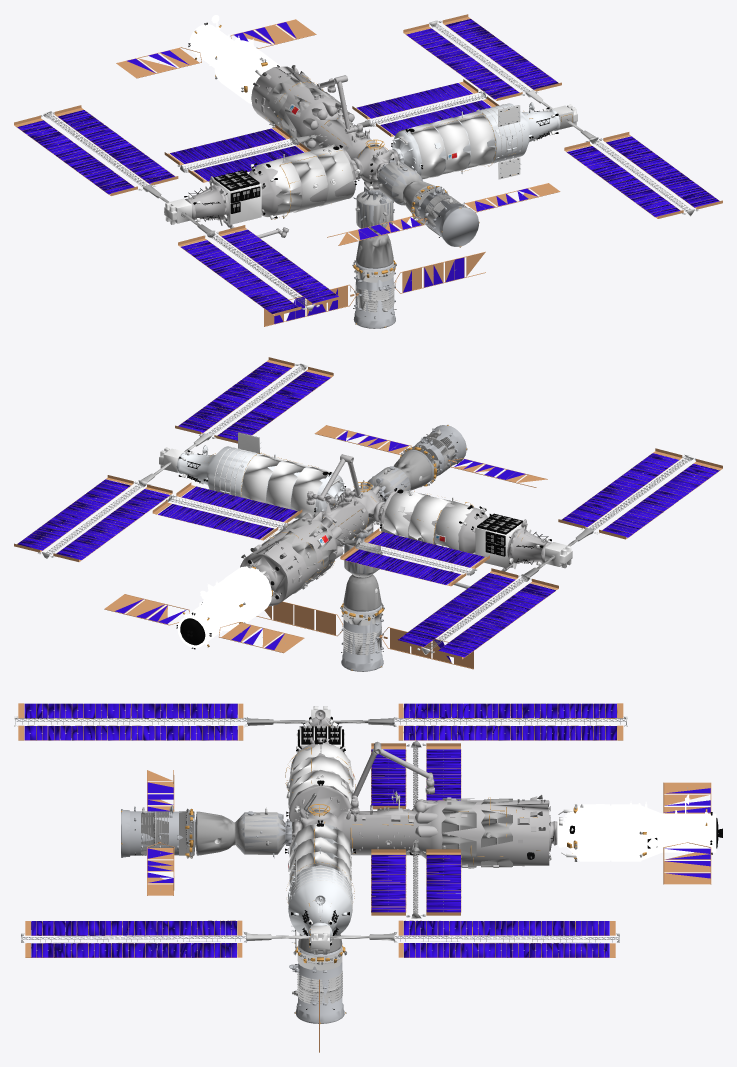
The model's file is tiangong.glb.
The picture shows the model from 3 angles, top to bottom: view 1: azimuth 30°, elevation 25°; view 2: azimuth 150°, elevation 25°; view 3: azimuth 270°, elevation 25°; orthographic projection. The views are drawn at different scales.
Parts seen in each view (by area): view 1: Plane.065_127, Plane.063_125, Circle.010_421, Plane.051_9, Plane.053_11, Circle.054_114, Plane.003_569, Circle.071_333, Circle.058_218, Circle.074_398, Cylinder.116_242, Plane.004_570 (+20 smaller); view 2: Circle.010_421, Plane.063_125, Plane.065_127, Plane.051_9, Plane.053_11, Plane.004_570, Plane.003_569, Circle.054_114, Circle.071_333, Cylinder.116_242, object 231, Circle.074_398 (+22 smaller); view 3: Circle.010_421, Plane.063_125, Plane.065_127, Plane.053_11, Plane.051_9, Circle.074_398, Plane.004_570, object 231, Plane.003_569, Circle.054_114, Cylinder.116_242, Circle.071_333 (+20 smaller).
Part boxes in pixels (left/top/right/bottom): Plane.065_127: left=58, top=110, right=338, bottom=303; Plane.063_125: left=17, top=120, right=298, bottom=314; Circle.010_421: left=251, top=66, right=399, bottom=190; Plane.051_9: left=445, top=19, right=719, bottom=207; Plane.053_11: left=406, top=28, right=680, bottom=217; Circle.054_114: left=392, top=103, right=560, bottom=175; Plane.003_569: left=170, top=83, right=472, bottom=164; Circle.071_333: left=353, top=187, right=395, bottom=328; Circle.058_218: left=185, top=145, right=358, bottom=220; Circle.074_398: left=377, top=161, right=478, bottom=246; Cylinder.116_242: left=116, top=19, right=316, bottom=78; Plane.004_570: left=193, top=100, right=490, bottom=181; Circle.010_421: left=240, top=482, right=384, bottom=606; Plane.063_125: left=438, top=463, right=719, bottom=657; Plane.065_127: left=397, top=453, right=679, bottom=646; Plane.051_9: left=17, top=362, right=291, bottom=550; Plane.053_11: left=56, top=371, right=330, bottom=560; Plane.004_570: left=181, top=486, right=484, bottom=567; Plane.003_569: left=158, top=504, right=460, bottom=585; Circle.054_114: left=176, top=446, right=344, bottom=515; Circle.071_333: left=341, top=530, right=383, bottom=671; Cylinder.116_242: left=104, top=594, right=304, bottom=653; object 231: left=177, top=575, right=268, bottom=647; Circle.074_398: left=366, top=425, right=466, bottom=502; Circle.010_421: left=292, top=791, right=557, bottom=865; Plane.063_125: left=24, top=703, right=617, bottom=718; Plane.065_127: left=24, top=725, right=617, bottom=740; Plane.053_11: left=31, top=920, right=609, bottom=935; Plane.051_9: left=31, top=943, right=609, bottom=957; Circle.074_398: left=121, top=809, right=292, bottom=857; Plane.004_570: left=371, top=749, right=406, bottom=912; object 231: left=557, top=805, right=718, bottom=860; Plane.003_569: left=426, top=749, right=461, bottom=912; Circle.054_114: left=288, top=824, right=351, bottom=941; Cylinder.116_242: left=663, top=782, right=711, bottom=884; Circle.071_333: left=295, top=934, right=344, bottom=1023.
Bounding box in the file's own units: 6.52 × 3.14 × 7.64.
Materials: 22 (1 with a texture image).
